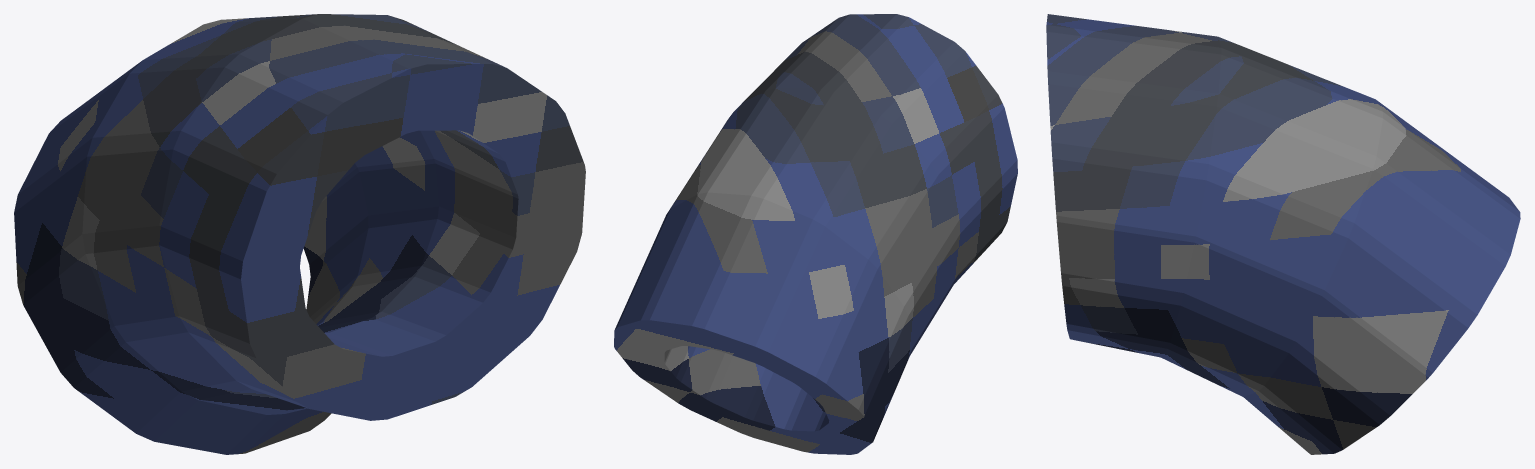
Rendered from SnolfTube4.fbx.
3 views of the same model, side by side, from view 1: azimuth 30°, elevation 25°; view 2: azimuth 150°, elevation 25°; view 3: azimuth 270°, elevation 25° (orthographic). The views are drawn at different scales.
Parts seen in each view (by area): view 1: Cube; view 2: Cube; view 3: Cube.
Boxes of the visible parts, x1,y1,x2,y2 form: Cube: (14, 14, 585, 454); Cube: (614, 14, 1017, 454); Cube: (1046, 14, 1520, 454).
Size of the model in its own units: 1019 by 1412 by 1490.
